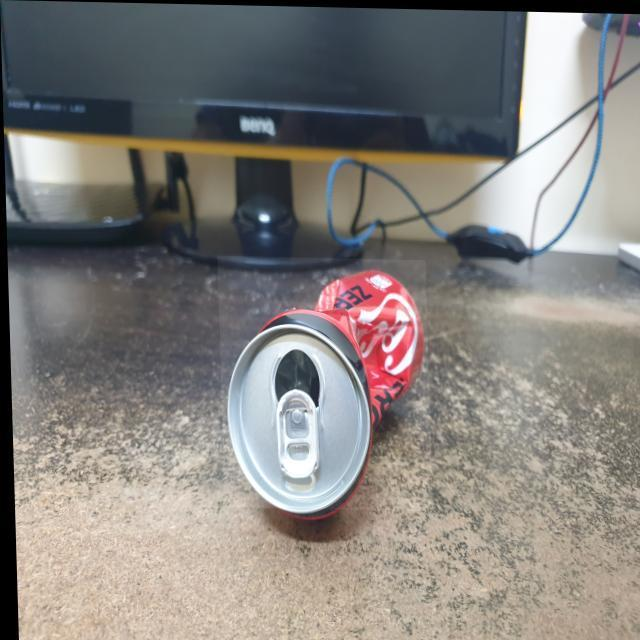trash: (216, 255, 430, 510)
